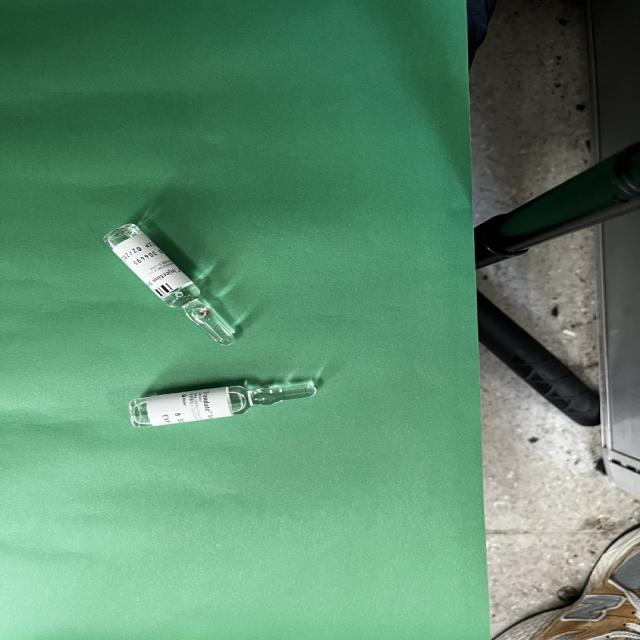Ampoules: (105, 224, 236, 346), (129, 382, 317, 428)
